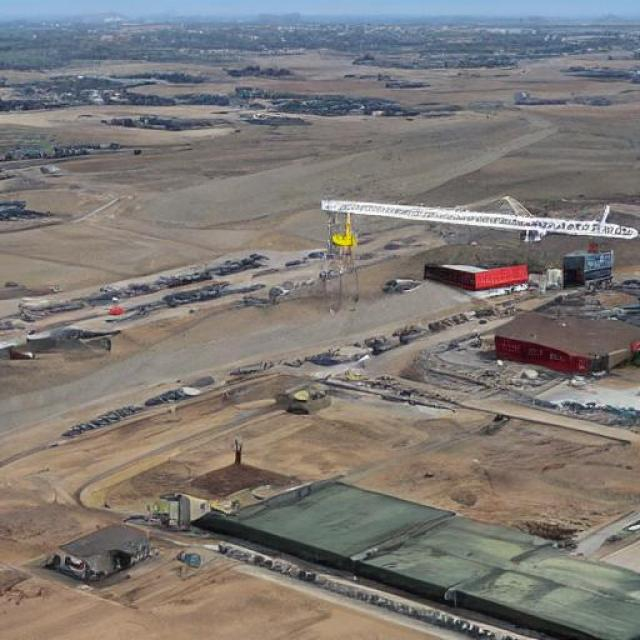crane: (0, 63, 640, 325)
